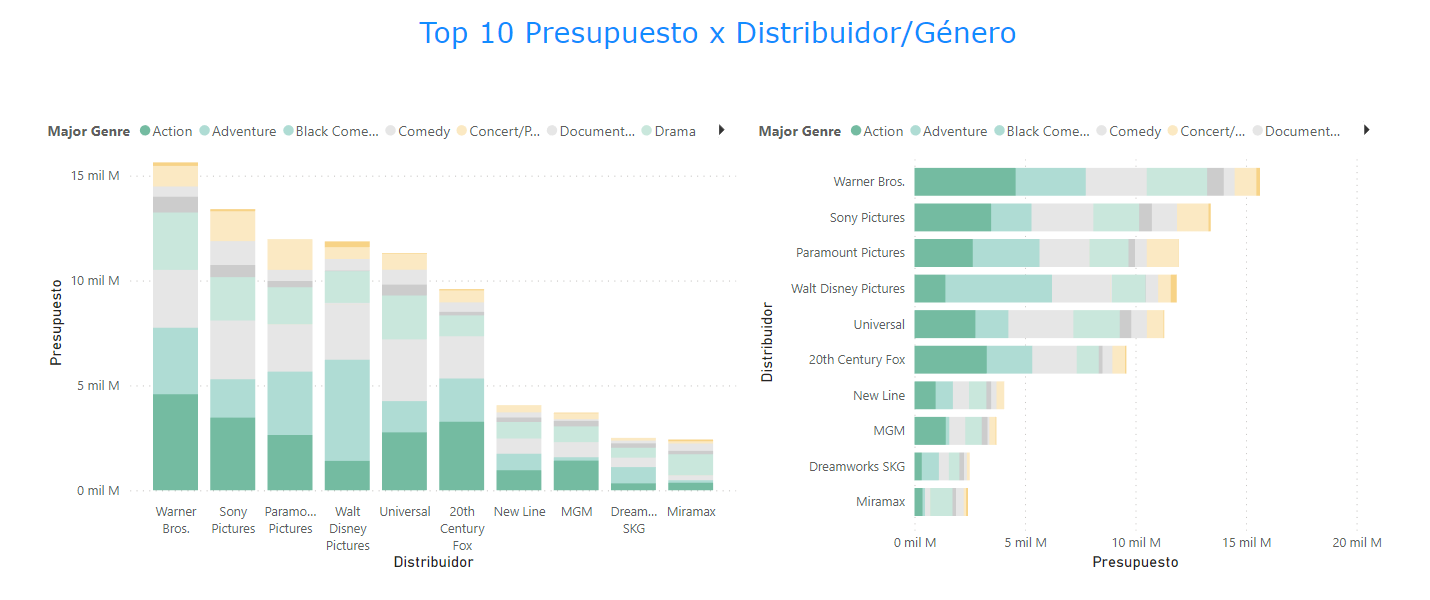

What the dashboard file says about the page in this screenshot:
{"tool":"powerbi","page":{"name":"Pto. DistxGénero(Top10)","canvas":[1280,720],"ordinal":1},"visuals":[{"type":"columnChart","title":"Top 10 Presupuesto x Distribuidor/Género","fields":{"Category":["movies.Distributor"],"Y":["Sum(movies.Presupuesto)"],"Series":["movies.Major Genre"]},"box":[13.6,105,659.5,438.7],"z":0},{"type":"textbox","box":[329,11,640,51],"z":1000},{"type":"barChart","title":"Top 10 Presupuesto x Distribuidor/Género","fields":{"Category":["movies.Distributor"],"Y":["Sum(movies.Presupuesto)"],"Series":["movies.Major Genre"]},"box":[682.8,105,597.2,438.7],"z":2000}]}

Visuals, with their boxes on the page's 1280x720 design canvas (x1, y1, x2, y2). These are canvas units, not pixel positions in the 1430x600 screenshot, which may show the page scaled, cropped or inside an application window:
"Top 10 Presupuesto x Distribuidor/Género" columnChart: <box>14,105,673,544</box>
textbox: <box>329,11,969,62</box>
"Top 10 Presupuesto x Distribuidor/Género" barChart: <box>683,105,1280,544</box>
